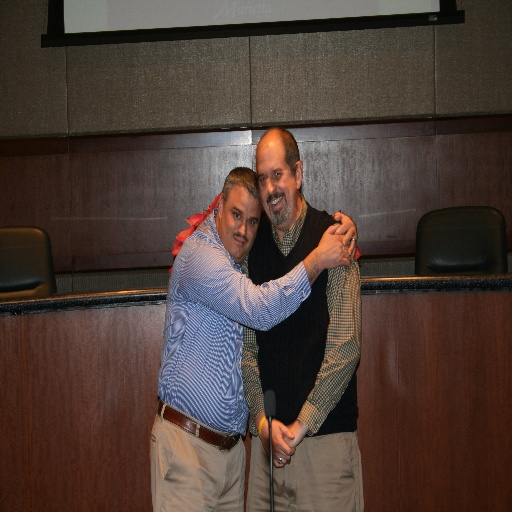hand: (258, 416, 298, 469), (316, 219, 353, 272), (329, 207, 361, 243), (283, 427, 296, 448)
